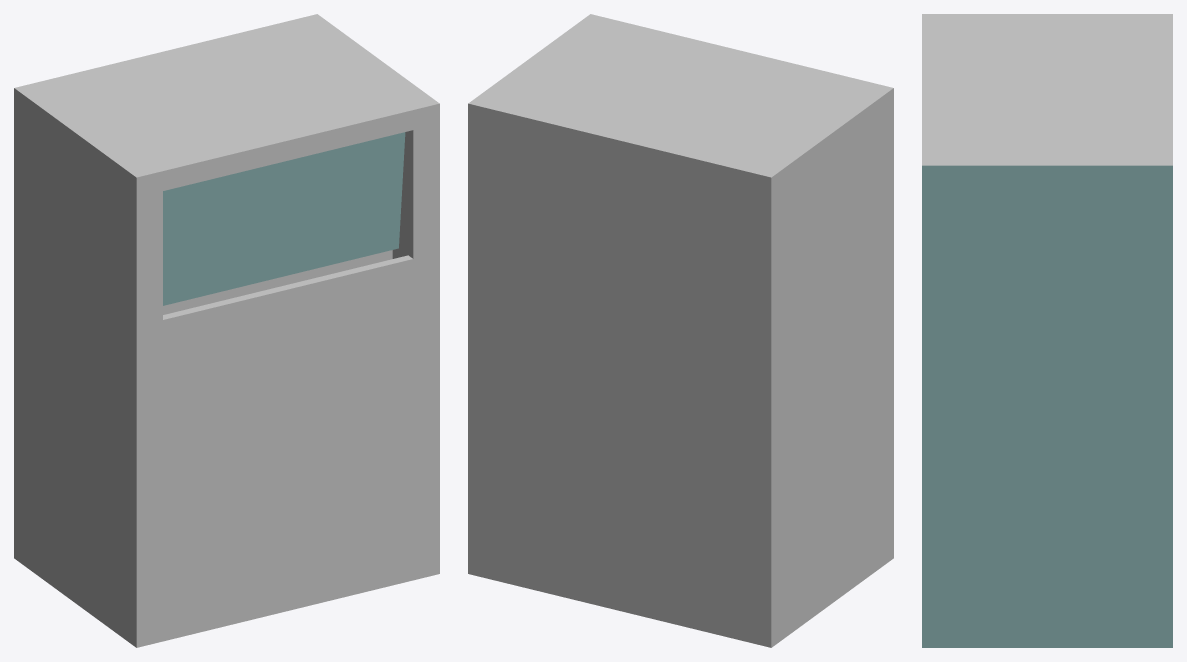
Rendered from Bin.fbx.
The picture shows the model from 3 angles, left to right: view 1: azimuth 30°, elevation 25°; view 2: azimuth 150°, elevation 25°; view 3: azimuth 270°, elevation 25°; orthographic projection. The views are drawn at different scales.
Visible parts, largest first — view 1: bin; view 2: bin; view 3: bin.
Boxes of the visible parts, <box> form: bin: <box>14,14,439,647</box>; bin: <box>468,14,893,647</box>; bin: <box>922,14,1172,647</box>.
Bounding box in the file's own units: 33.77 × 50.05 × 23.61.
